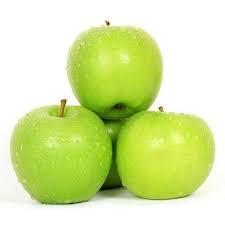apple: (8, 98, 113, 207), (66, 20, 164, 122), (117, 109, 217, 201)
